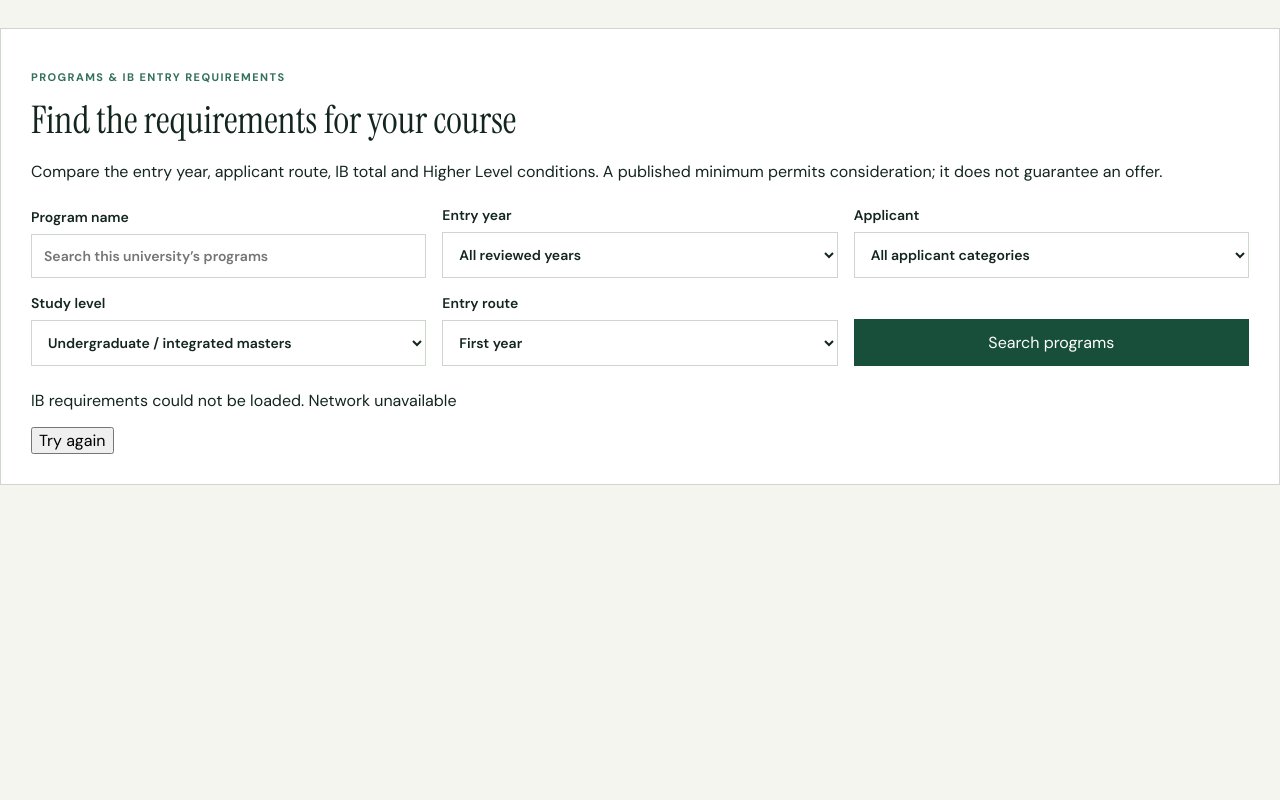
IbRequirementsSection › shows a fetch failure separately from missing data and retries successfully
Expected: the message shows "Network unavailable", [308,390,456,411]
Click the button "Try again".
click(72, 440)  # box [31,427,114,454]
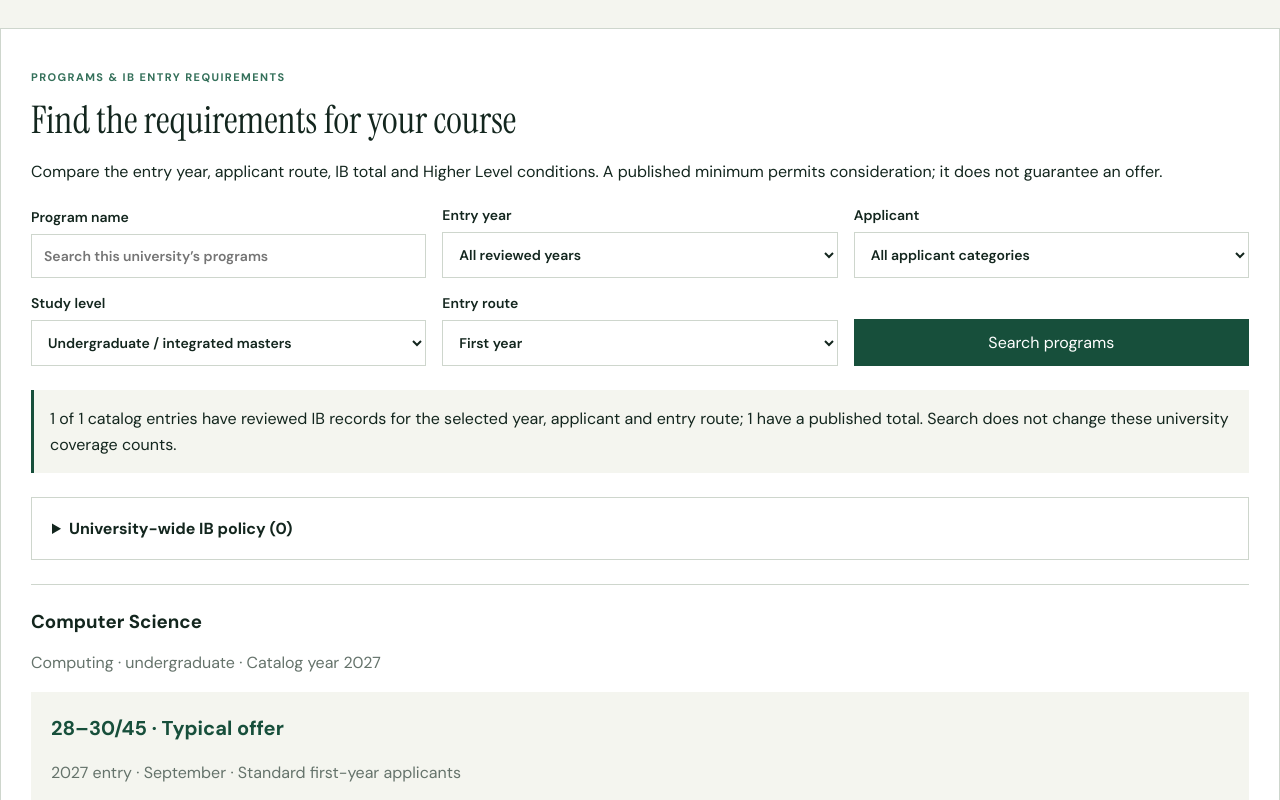
Expected: the heading "Computer Science" is shown, [31,609,202,634]
